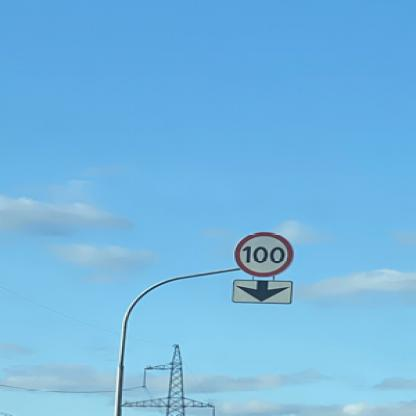speedlimit: (230, 230, 291, 276)
